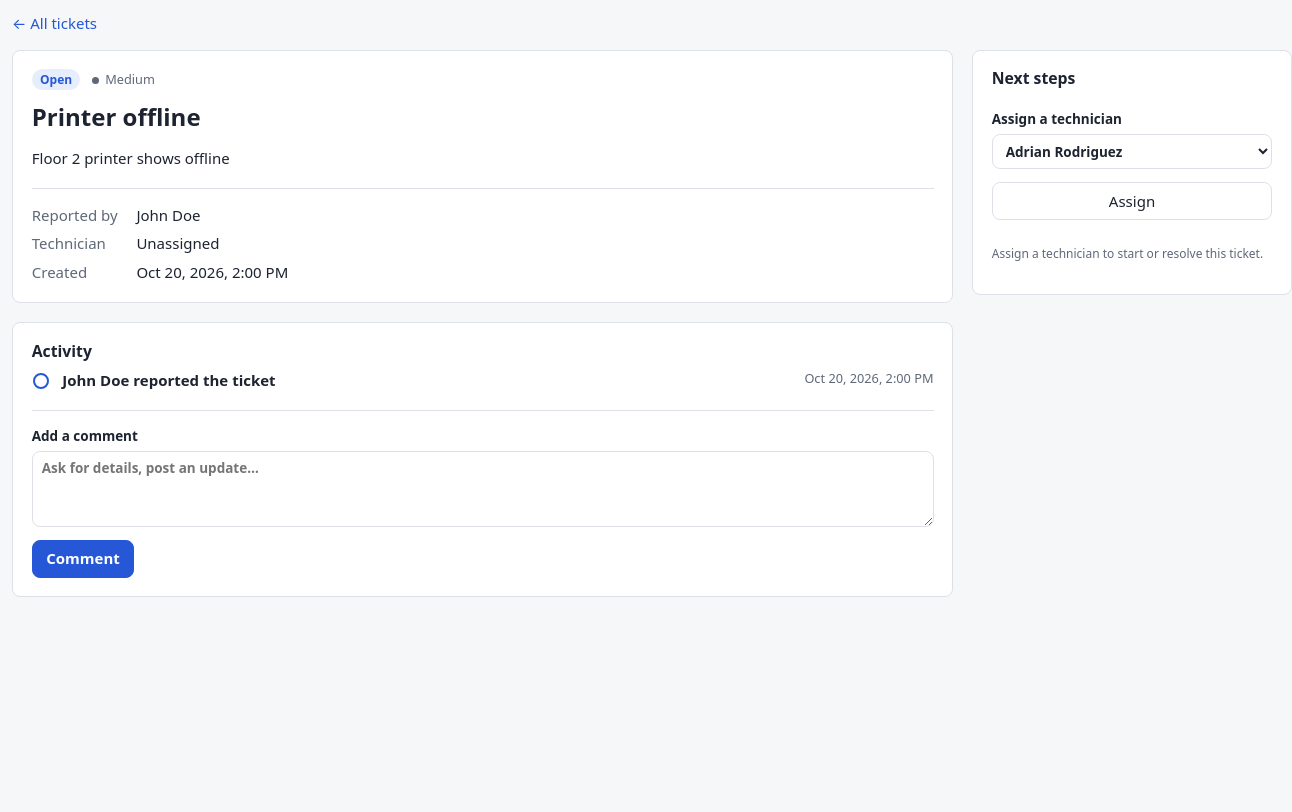
TicketDetailPage › assigns the chosen technician and shows the updated ticket
This screenshot has width=1292, height=812.
Click the button "Assign" at (1132, 201), box [992,182,1272,220]
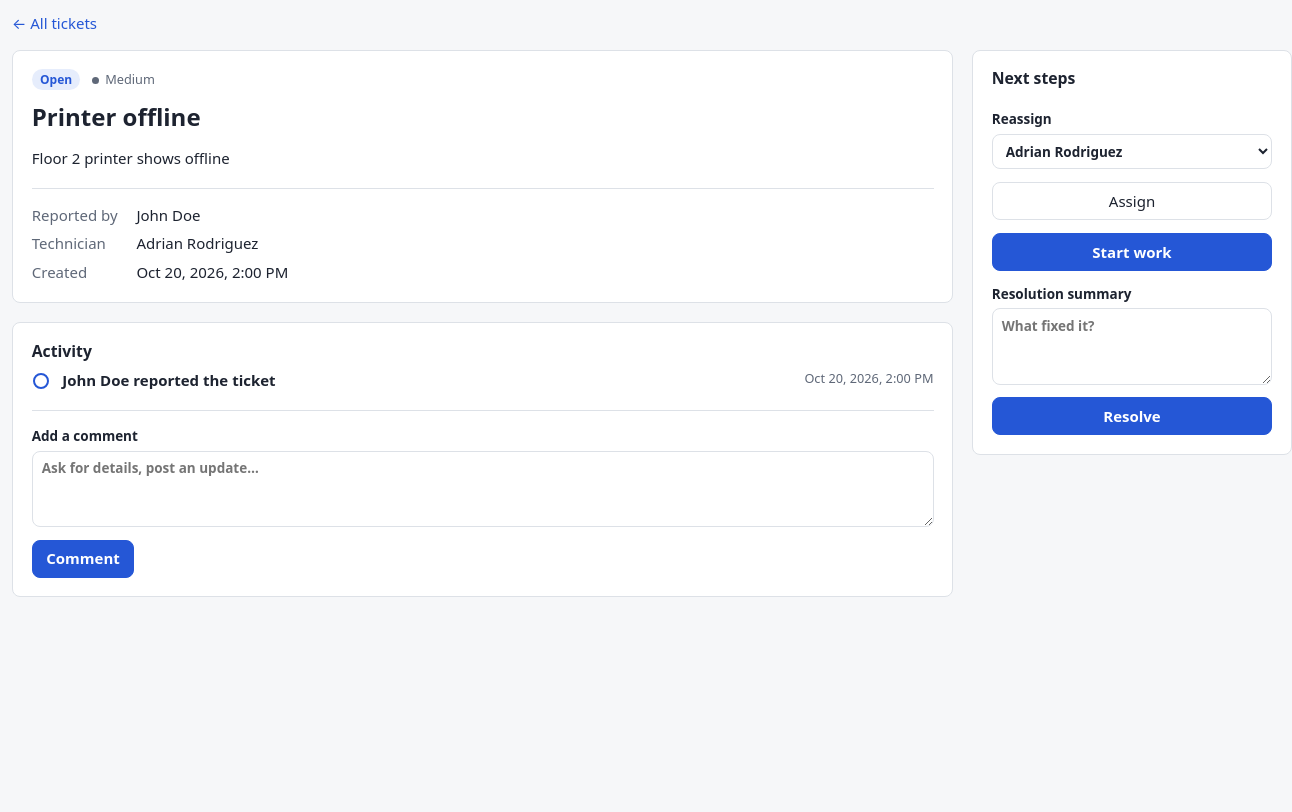
Now the button "Start work" is shown, box [992,233,1272,271]
